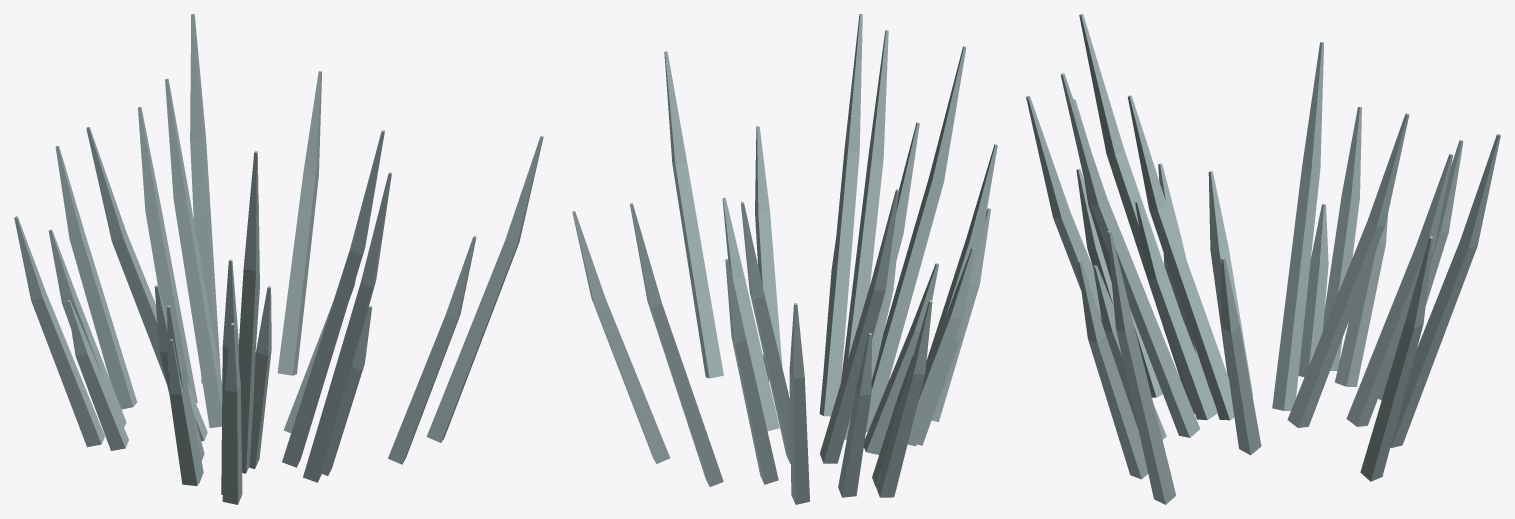
The model's file is PLANT_02_GrassFrozen.glb.
3 renders of one model, left to right at view 1: azimuth 30°, elevation 25°; view 2: azimuth 150°, elevation 25°; view 3: azimuth 270°, elevation 25°, orthographic. The views are drawn at different scales.
Visible parts, largest first — view 1: PLANT_02_GrassFrozen; view 2: PLANT_02_GrassFrozen; view 3: PLANT_02_GrassFrozen.
Part boxes in pixels (x1,y1,x2,y2): PLANT_02_GrassFrozen: [14, 14, 543, 504]; PLANT_02_GrassFrozen: [572, 14, 997, 504]; PLANT_02_GrassFrozen: [1026, 14, 1500, 504].
Bounding box in the file's own units: 0.9182 × 0.8083 × 0.9214.
